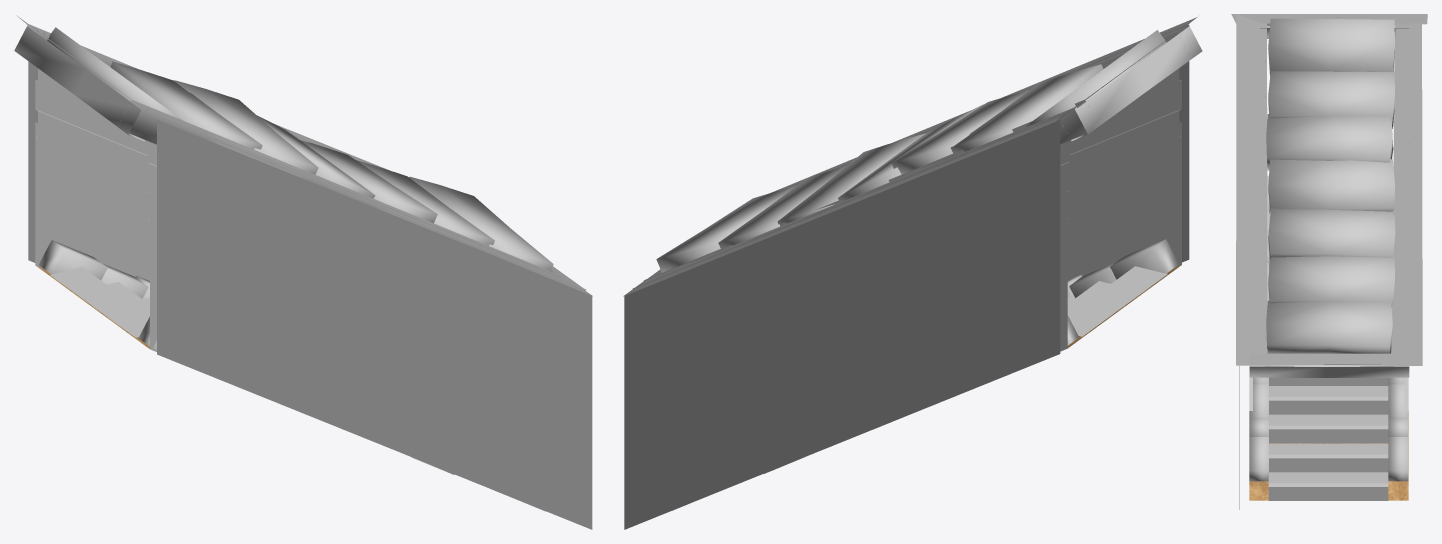
File: Stairs_Straight_8m.fbx
The picture shows the model from 3 angles, left to right: view 1: azimuth 30°, elevation 25°; view 2: azimuth 150°, elevation 25°; view 3: azimuth 270°, elevation 25°; orthographic projection. The views are drawn at different scales.
Visible parts, largest first — view 1: Stairs_shadow_caster1, Geom_Stairs_wall_8m, Geom_Stairs_Roof_Border, Geom_Stairs_8m, Geom_Stairs_Roof_Stone_2, Geom_Stairs_Roof_Stone_7, Geom_Stairs_Roof_Stone_8, Stairs_shadow_caster7, Geom_Stairs_Roof_Stone_5, Geom_Stairs_Roof_Stone_1, Geom_Stairs_Roof_Stone_6, Stairs_shadow_caster2 (+2 smaller); view 2: Stairs_shadow_caster2, Geom_Stairs_wall_8m_1, Geom_Stairs_Roof_Border, Geom_Stairs_8m, Stairs_shadow_caster7, Geom_Stairs_Roof_Stone_2, Geom_Stairs_Roof_Stone_5, Geom_Stairs_Roof_Stone_7, Geom_Stairs_Roof_Stone_8, Geom_Stairs_Roof_Stone_1, Geom_Stairs_Roof_Stone_6, Geom_Stairs_wall_8m (+2 smaller); view 3: Stairs_shadow_caster7, Geom_Stairs_8m, Geom_Stairs_Roof_Stone_1, Geom_Stairs_Roof_Stone_7, Geom_Stairs_Roof_Stone_3, Geom_Stairs_Roof_Stone_5, Geom_Stairs_Roof_Stone_2, Geom_Stairs_Roof_Stone_6, Geom_Stairs_Roof_Stone_8, Geom_Stairs_Roof_Border, Geom_Stairs_Sand.
Part boxes in pixels (x1,y1,x2,y2): Stairs_shadow_caster1: (157, 120, 592, 529); Geom_Stairs_wall_8m: (35, 68, 149, 280); Geom_Stairs_Roof_Border: (14, 24, 586, 290); Geom_Stairs_8m: (39, 240, 454, 474); Geom_Stairs_Roof_Stone_2: (110, 61, 262, 149); Geom_Stairs_Roof_Stone_7: (409, 176, 553, 270); Geom_Stairs_Roof_Stone_8: (174, 80, 318, 174); Stairs_shadow_caster7: (16, 15, 592, 296); Geom_Stairs_Roof_Stone_5: (300, 140, 437, 223); Geom_Stairs_Roof_Stone_1: (47, 27, 183, 120); Geom_Stairs_Roof_Stone_6: (356, 160, 494, 245); Stairs_shadow_caster2: (28, 61, 37, 262); Stairs_shadow_caster2: (624, 119, 1060, 529); Geom_Stairs_wall_8m_1: (1067, 68, 1181, 279); Geom_Stairs_Roof_Border: (632, 24, 1202, 288); Geom_Stairs_8m: (763, 239, 1178, 473); Stairs_shadow_caster7: (623, 17, 1197, 296); Geom_Stairs_Roof_Stone_2: (950, 64, 1103, 153); Geom_Stairs_Roof_Stone_5: (777, 133, 925, 224); Geom_Stairs_Roof_Stone_7: (656, 185, 796, 272); Geom_Stairs_Roof_Stone_8: (891, 89, 1029, 174); Geom_Stairs_Roof_Stone_1: (1025, 30, 1166, 126); Geom_Stairs_Roof_Stone_6: (718, 165, 846, 248); Geom_Stairs_wall_8m: (672, 140, 1070, 510); Stairs_shadow_caster7: (1231, 14, 1427, 365); Geom_Stairs_8m: (1249, 175, 1408, 500); Geom_Stairs_Roof_Stone_1: (1268, 18, 1394, 76); Geom_Stairs_Roof_Stone_7: (1266, 300, 1392, 353); Geom_Stairs_Roof_Stone_3: (1268, 159, 1394, 214); Geom_Stairs_Roof_Stone_5: (1268, 208, 1395, 264); Geom_Stairs_Roof_Stone_2: (1268, 71, 1394, 128); Geom_Stairs_Roof_Stone_6: (1268, 256, 1394, 306); Geom_Stairs_Roof_Stone_8: (1266, 114, 1393, 170); Geom_Stairs_Roof_Border: (1249, 23, 1409, 377); Geom_Stairs_Sand: (1249, 411, 1408, 500).
Size of the model in its own units: 924 by 1015 by 494.
